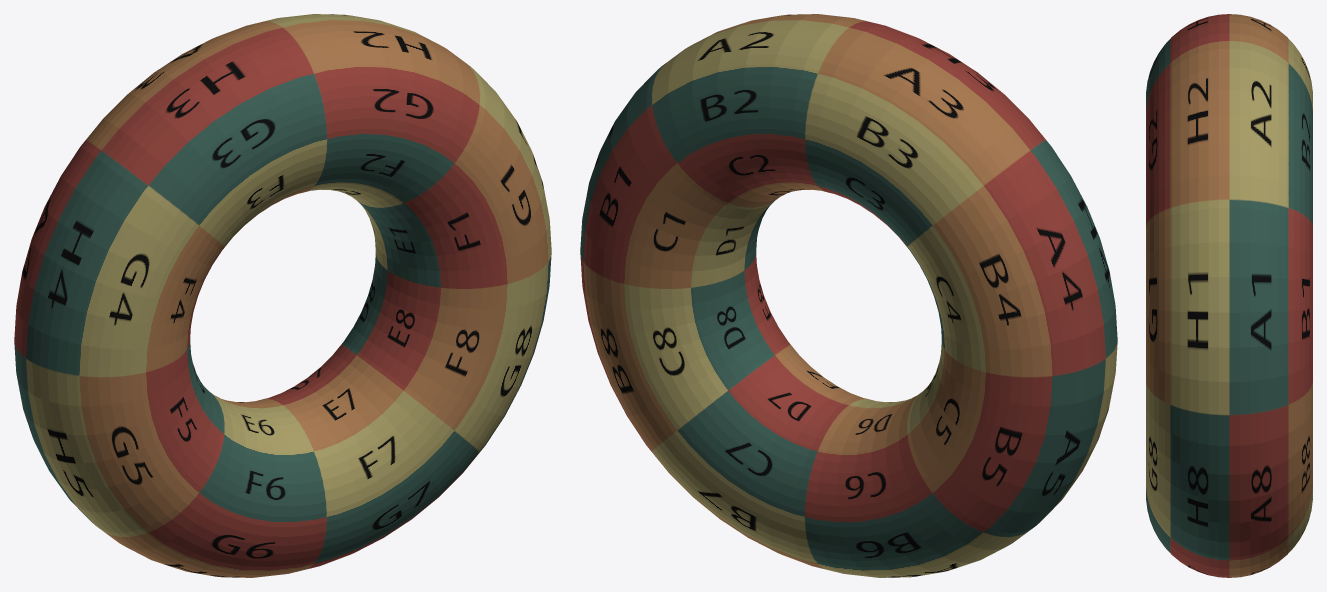
The model's file is texture_torus_R13_r22.glb.
The picture shows the model from 3 angles, left to right: view 1: azimuth 30°, elevation 25°; view 2: azimuth 150°, elevation 25°; view 3: azimuth 270°, elevation 25°; orthographic projection. The views are drawn at different scales.
Visible parts, largest first — view 1: world; view 2: world; view 3: world.
Boxes of the visible parts, box(x1,y1,x2,y2) form: world: box(14, 14, 551, 577); world: box(580, 14, 1117, 577); world: box(1146, 14, 1312, 577).
Bounding box in the file's own units: 26.53 × 26.48 × 7.85.
Materials: 1 (1 with a texture image).
